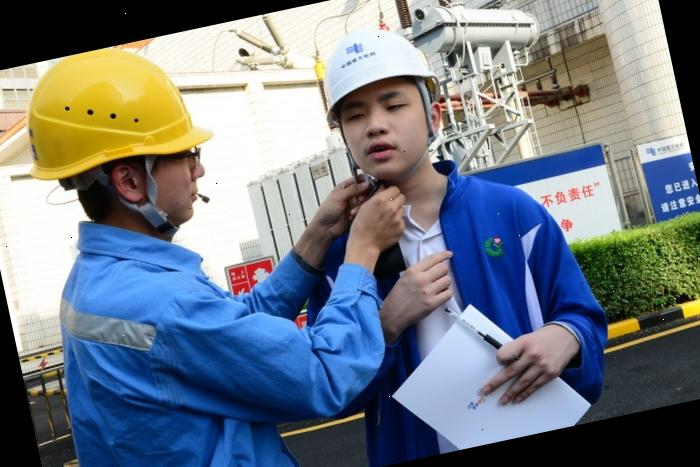helmet: (12, 28, 223, 190), (307, 16, 442, 124)
no_wear: (321, 165, 581, 467)
wear: (38, 211, 298, 467)
